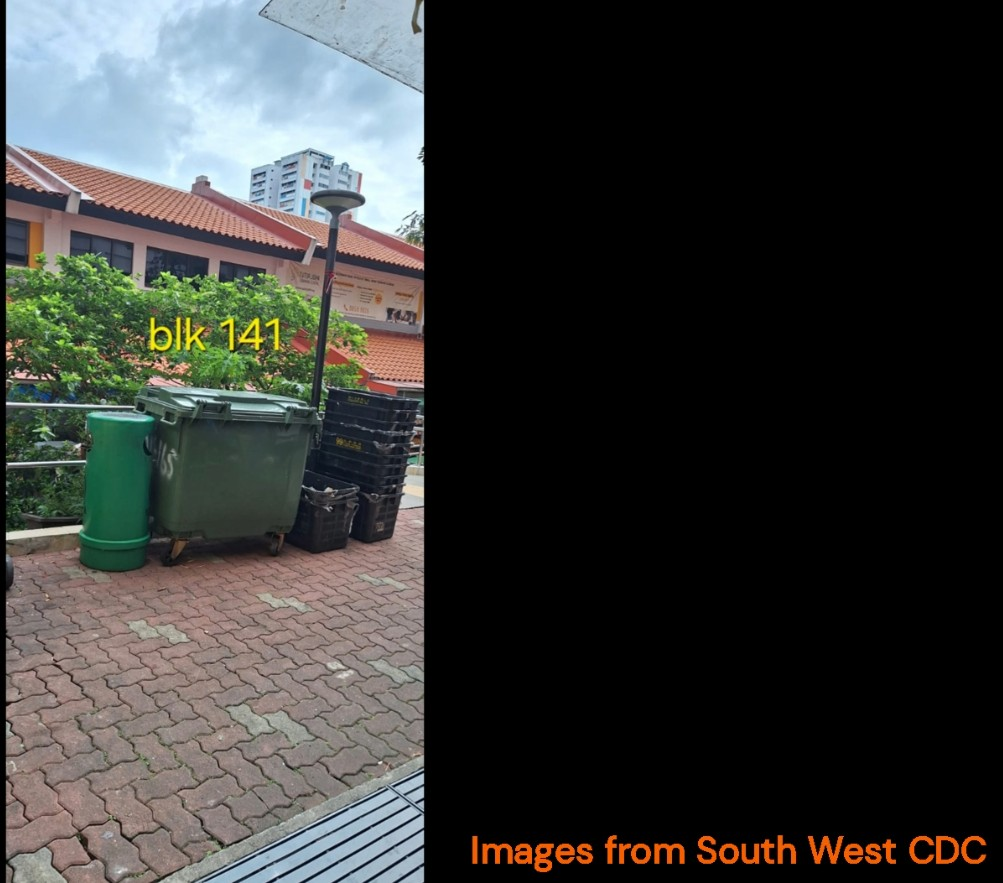bin_empty: (135, 387, 320, 563), (80, 411, 153, 570)
bulk_waste: (317, 389, 418, 494), (287, 469, 358, 552), (325, 389, 419, 431), (350, 489, 402, 542)
